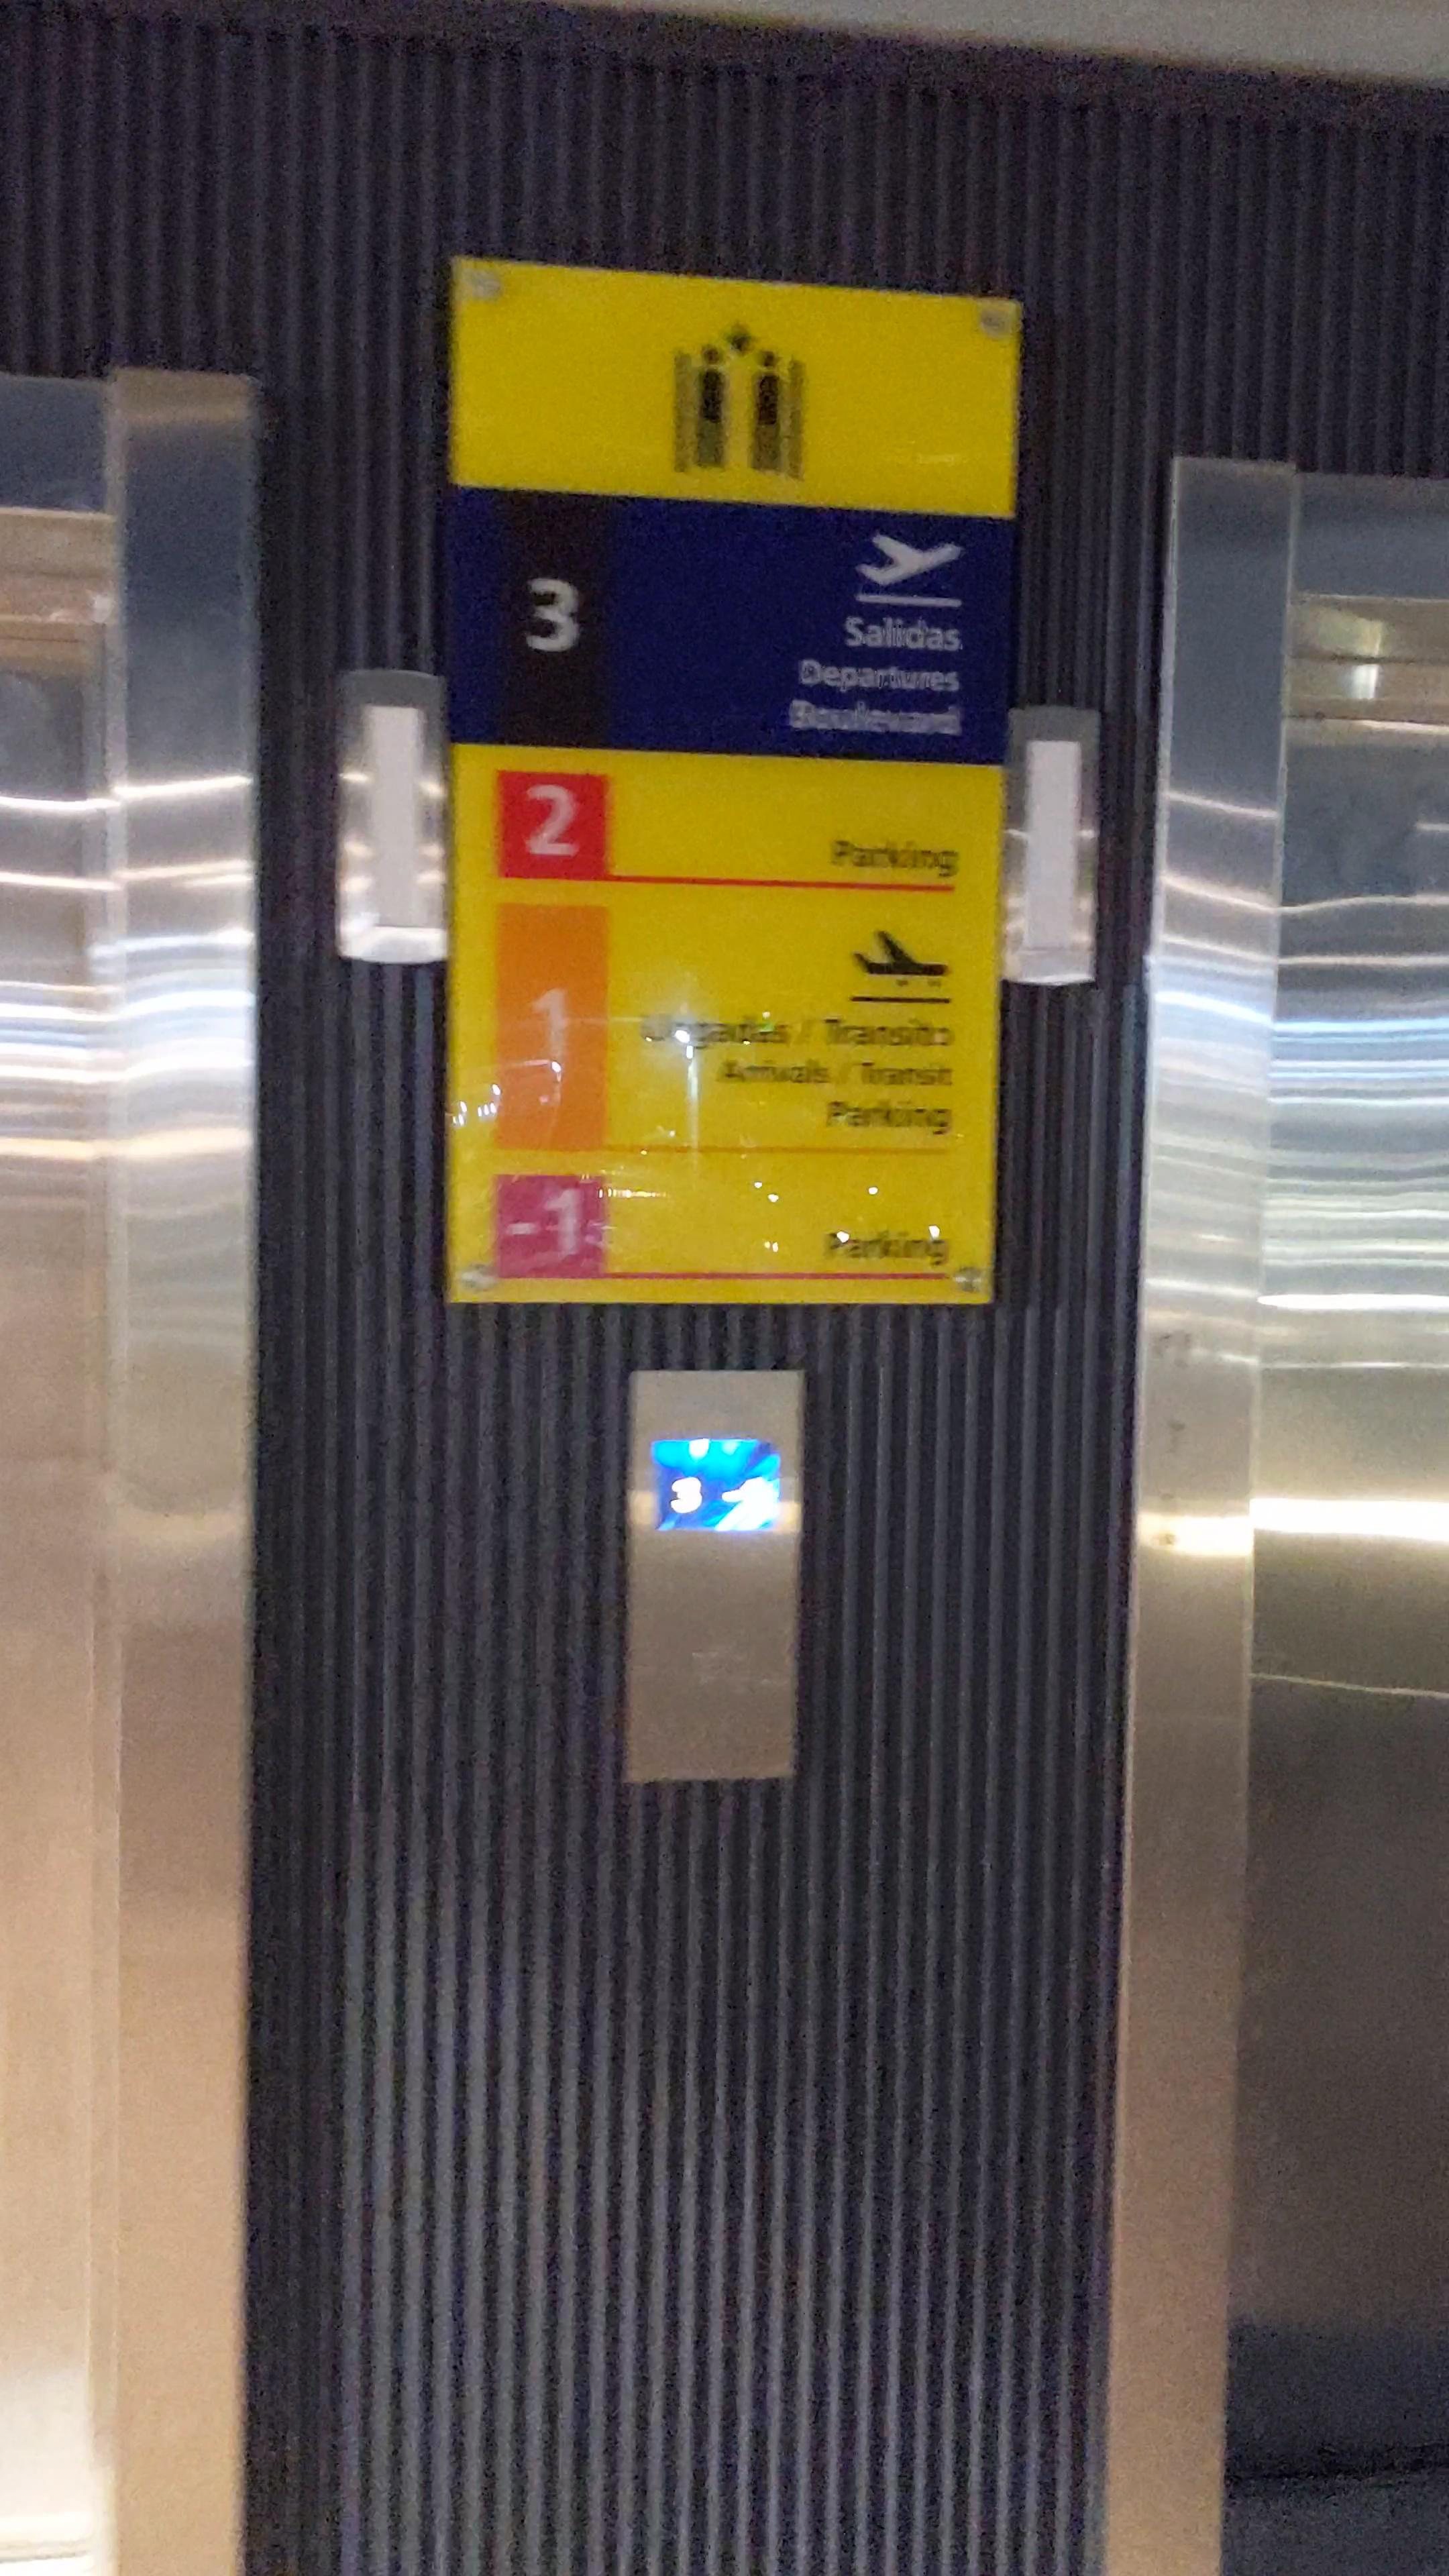airplane symbol: (855, 527, 950, 609), (858, 927, 943, 991)
